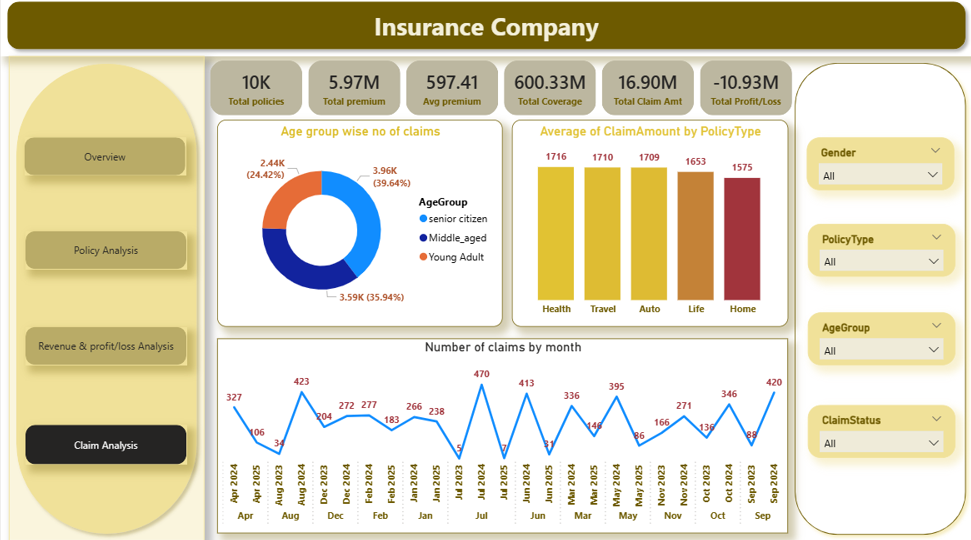

This screenshot's page, from the dashboard's own definition file:
{"tool":"powerbi","page":{"name":"Claim Analysis","canvas":[1280,720],"ordinal":3},"visuals":[{"type":"shape","title":"Insurance Company","box":[0,0,1280.3,81],"z":0},{"type":"shape","box":[0,0,1280.3,81],"z":1000},{"type":"shape","box":[11,81,258,639.5],"z":2000},{"type":"shape","box":[1037,80.7,243.3,639.5],"z":3000},{"type":"slicer","fields":{"Values":["insurance insurancedata.Gender"]},"box":[1062.6,188.3,194.4,69.7],"z":4000},{"type":"slicer","fields":{"Values":["insurance insurancedata.PolicyType"]},"box":[1063.9,302,194.4,69.7],"z":5000},{"type":"slicer","fields":{"Values":["insurance insurancedata.AgeGroup"]},"box":[1063.9,418.2,194.4,69.7],"z":6000},{"type":"slicer","fields":{"Values":["insurance insurancedata.ClaimStatus"]},"box":[1063.9,540.5,194.4,69.7],"z":7000},{"type":"cardVisual","fields":{"Data":["insurance insurancedata.Total policies","insurance insurancedata.total premium","insurance insurancedata.Avg premium per policy","insurance insurancedata.Total Coverage Amt","insurance insurancedata.Total Claim Amt","insurance insurancedata.Overall Profit/Loss"]},"box":[259.2,69.7,804.6,106.4],"z":8000},{"type":"pageNavigator","box":[31.8,188.3,212.8,50.1],"z":9000},{"type":"pageNavigator","box":[33,311.8,212.8,50.1],"z":10000},{"type":"pageNavigator","box":[33,437.8,212.8,50.1],"z":11000},{"type":"pageNavigator","box":[33,567.4,212.8,52.6],"z":12000},{"type":"donutChart","title":"Age group wise no of claims","fields":{"Category":["insurance insurancedata.AgeGroup"],"Y":["CountNonNull(insurance insurancedata.ClaimNumber)"]},"box":[285.4,164.7,376,273.1],"z":13000},{"type":"columnChart","fields":{"Category":["insurance insurancedata.PolicyType"],"Y":["Avg(insurance insurancedata.ClaimAmount)"]},"box":[673.8,164.7,363.6,273.1],"z":14000},{"type":"lineChart","title":"Number of claims by month","fields":{"Y":["CountNonNull(insurance insurancedata.ClaimNumber)"],"Category":["insurance insurancedata.Claim month name","insurance insurancedata.claim"]},"box":[285.4,452.8,752,256.6],"z":15000}]}

Visuals, with their boxes in screenshot pixels (x1, y1, x2, y2), scaled from the page's 1280x720 canvas onto the 971x540 screenshot:
"Insurance Company" shape: box(0, 0, 970, 61)
shape: box(0, 0, 970, 61)
shape: box(8, 61, 204, 539)
shape: box(787, 61, 970, 539)
slicer - insurance insurancedata.Gender: box(806, 141, 954, 194)
slicer - insurance insurancedata.PolicyType: box(807, 226, 955, 279)
slicer - insurance insurancedata.AgeGroup: box(807, 314, 955, 366)
slicer - insurance insurancedata.ClaimStatus: box(807, 405, 955, 458)
cardVisual - insurance insurancedata.Total policies x insurance insurancedata.total premium: box(197, 52, 807, 132)
pageNavigator: box(24, 141, 186, 179)
pageNavigator: box(25, 234, 186, 271)
pageNavigator: box(25, 328, 186, 366)
pageNavigator: box(25, 426, 186, 465)
"Age group wise no of claims" donutChart: box(217, 124, 502, 328)
columnChart - insurance insurancedata.PolicyType x Avg(insurance insurancedata.ClaimAmount): box(511, 124, 787, 328)
"Number of claims by month" lineChart: box(217, 340, 787, 532)
